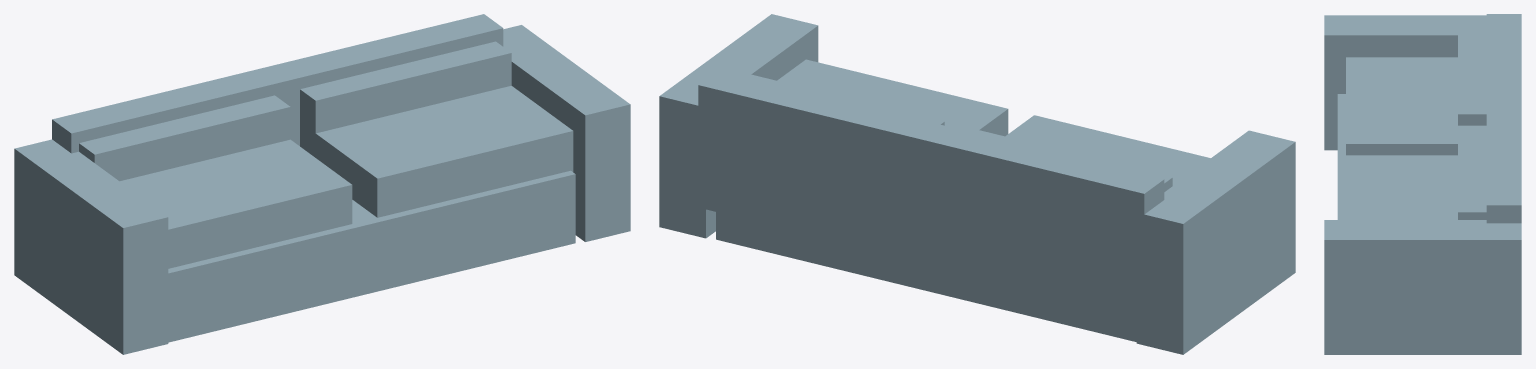
Rendered from kivik-blue.gltf.
The picture shows the model from 3 angles, left to right: view 1: azimuth 30°, elevation 25°; view 2: azimuth 150°, elevation 25°; view 3: azimuth 270°, elevation 25°; orthographic projection. The views are drawn at different scales.
Visible parts, largest first — view 1: seat, left-arm, right-cushion, left-cushion, back, right-arm, right-back, left-back; view 2: back, left-arm, right-arm, seat, right-cushion, left-cushion, left-back, right-back; view 3: right-arm, left-cushion, left-arm, back, right-cushion, left-back, right-back, seat.
Boxes of the visible parts, x1,y1,x2,y2 form: seat: (168,170,575,342); left-arm: (14,139,168,354); right-cushion: (300,85,573,217); left-cushion: (120,139,352,268); back: (52,14,503,153); right-arm: (503,25,630,241); right-back: (300,41,511,133); left-back: (79,95,290,181); back: (698,70,1164,315); left-arm: (1136,130,1295,354); right-arm: (659,14,818,238); seat: (716,212,1136,341); right-cushion: (777,59,1008,136); left-cushion: (1005,115,1210,185); left-back: (967,128,1172,191); right-back: (738,72,944,125); right-arm: (1324,220,1521,354); left-cushion: (1346,57,1457,155); left-arm: (1324,15,1486,150); back: (1486,14,1521,223); right-cushion: (1346,155,1457,219); left-back: (1458,27,1486,125); right-back: (1458,125,1486,219); seat: (1337,94,1345,219).
Bounding box in the file's own units: 2.3 × 0.6617 × 0.855.
